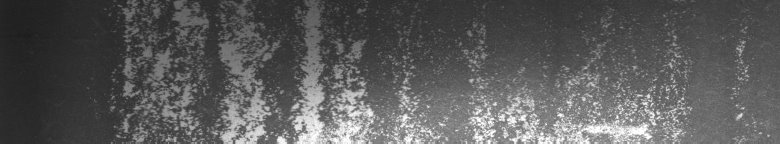kb: (104, 4, 749, 136)
